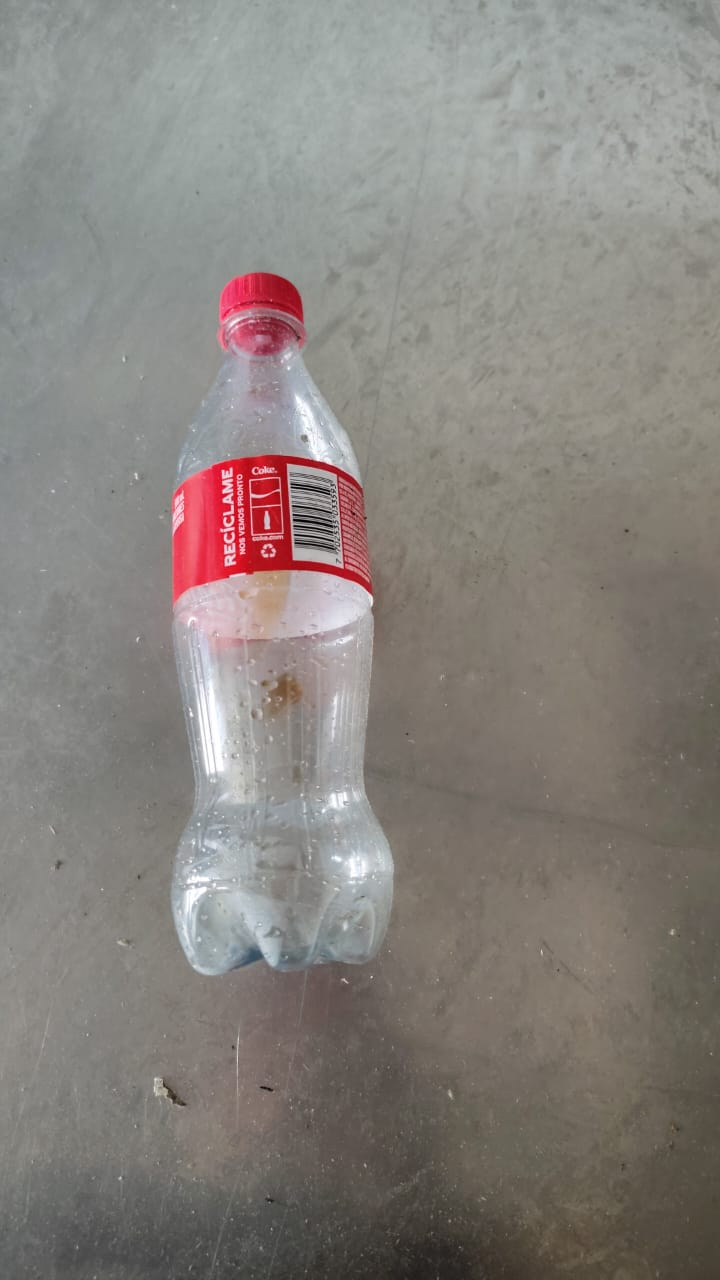Plastico: (171, 273, 398, 975)
